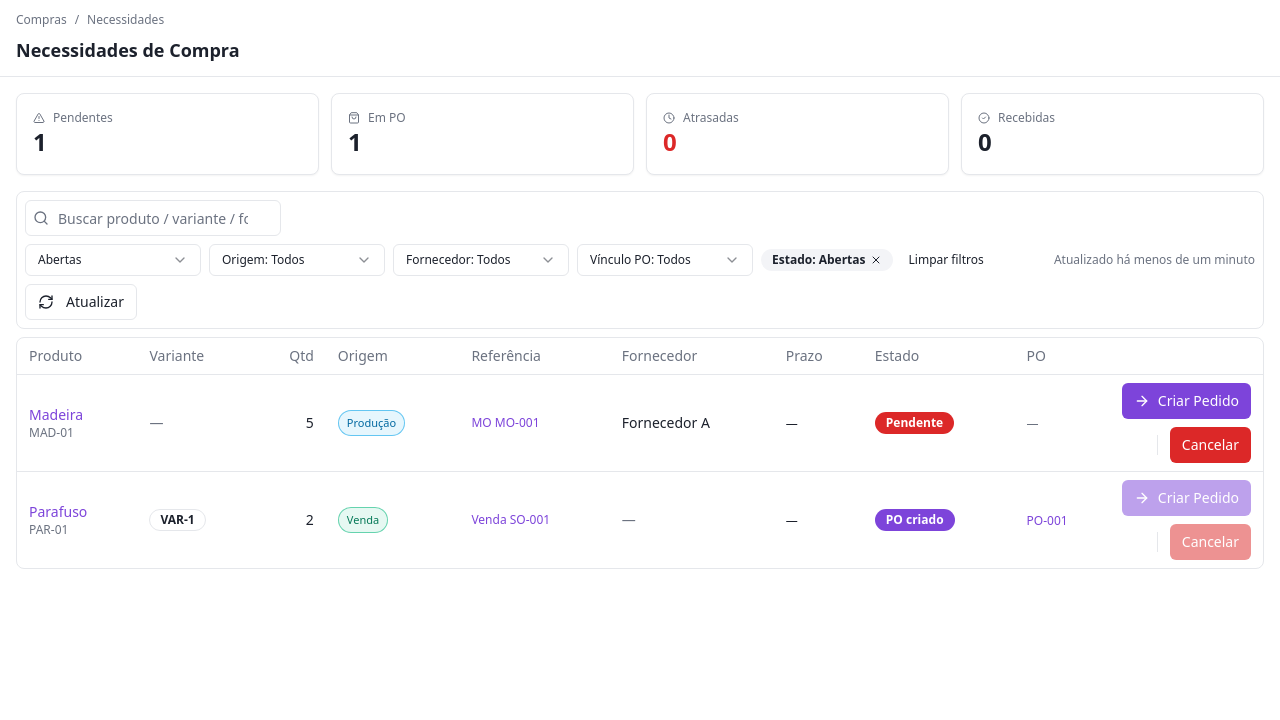
Test case: PurchaseNeedsList › calls cancel_purchase_need RPC via confirm dialog
Later steps or results of the test are not shown.
expect the link "Madeira" is shown: met, box [29, 405, 83, 424]
Click the button "Cancelar" in the row of "MAD-01" at (1210, 445), box [1170, 427, 1251, 463]
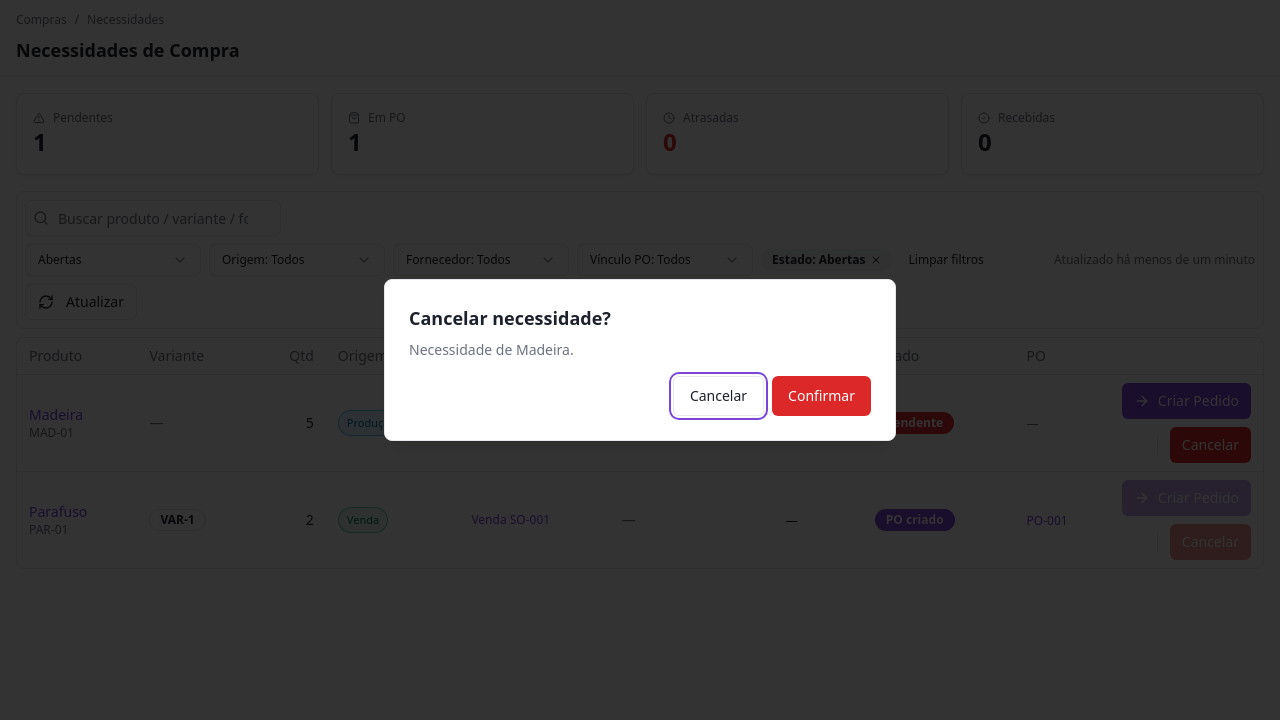
expect the heading "Cancelar necessidade?" is shown: met, box [409, 306, 611, 330]
